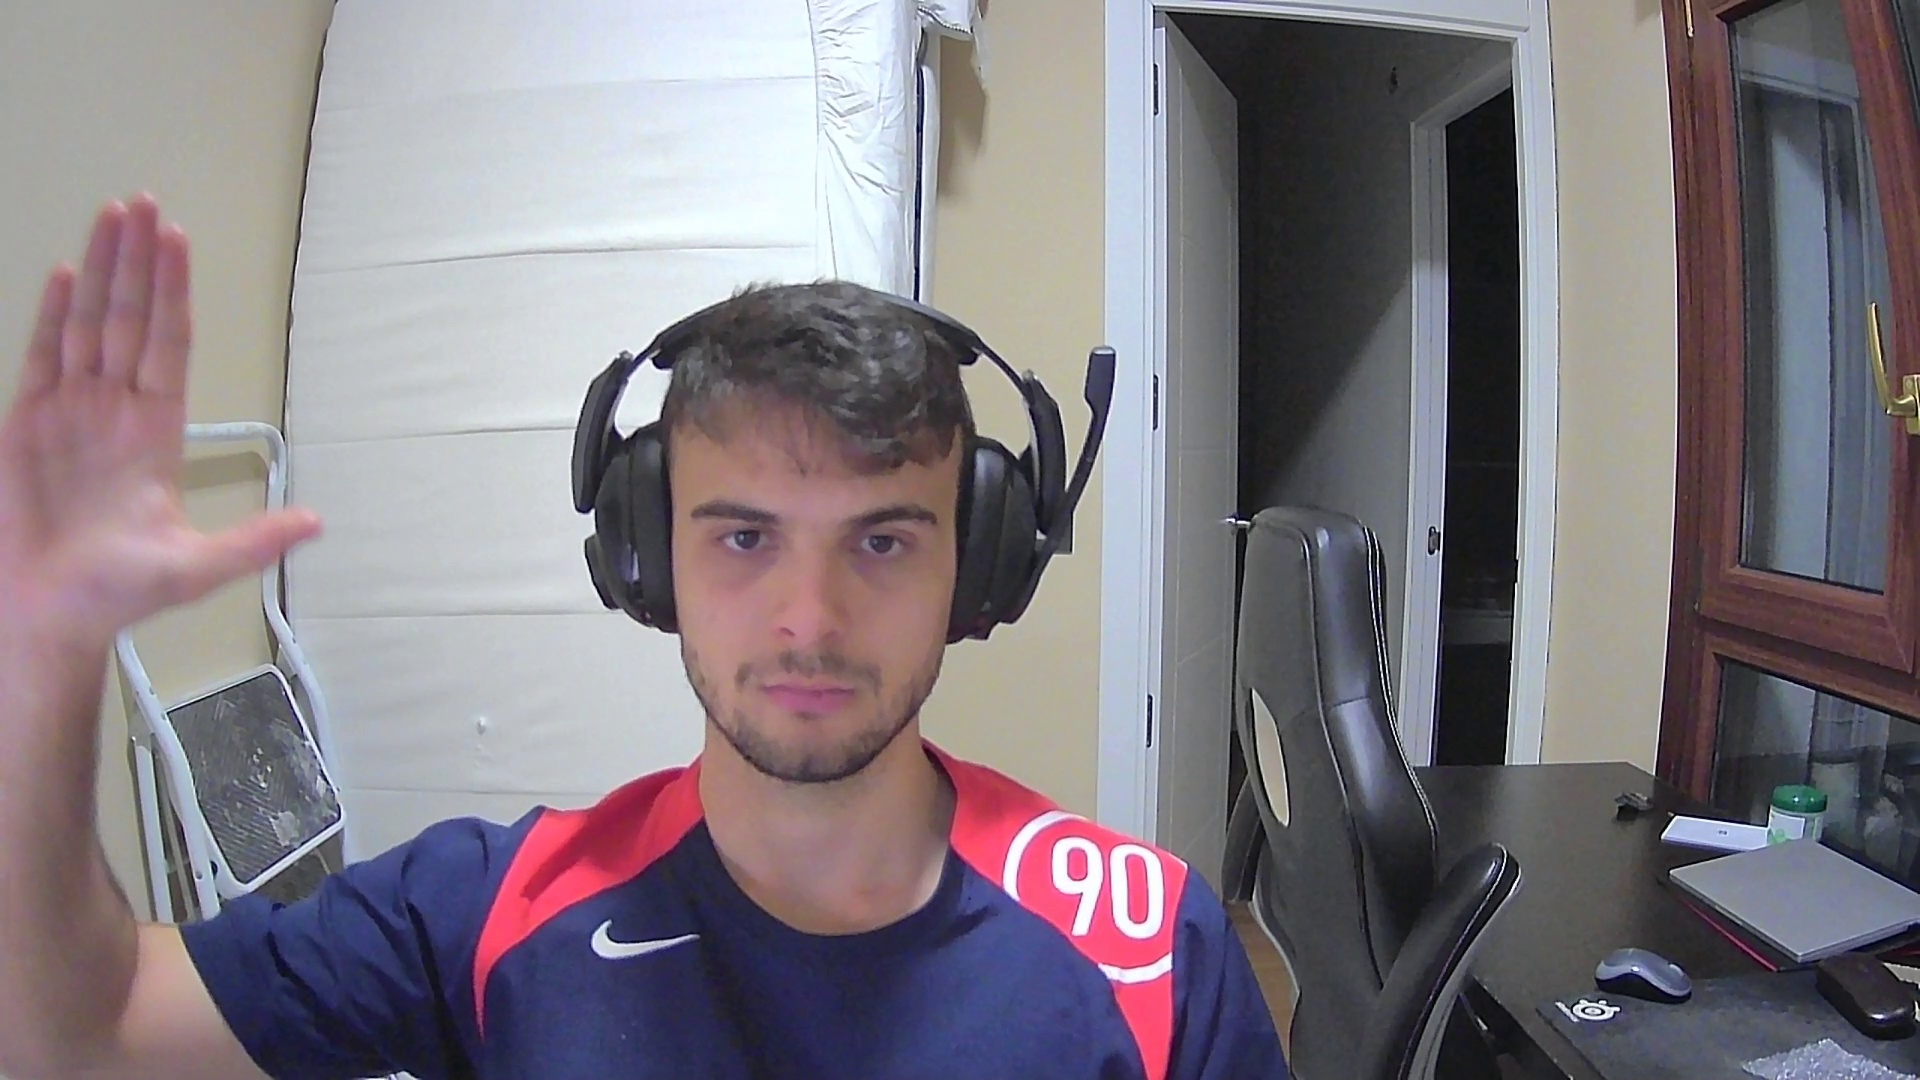Palm: (1, 189, 330, 628)
